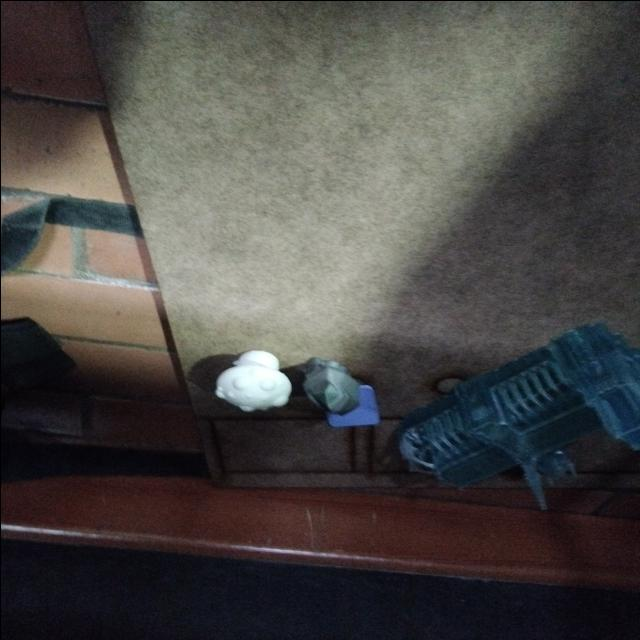Hongo: (207, 343, 297, 417)
